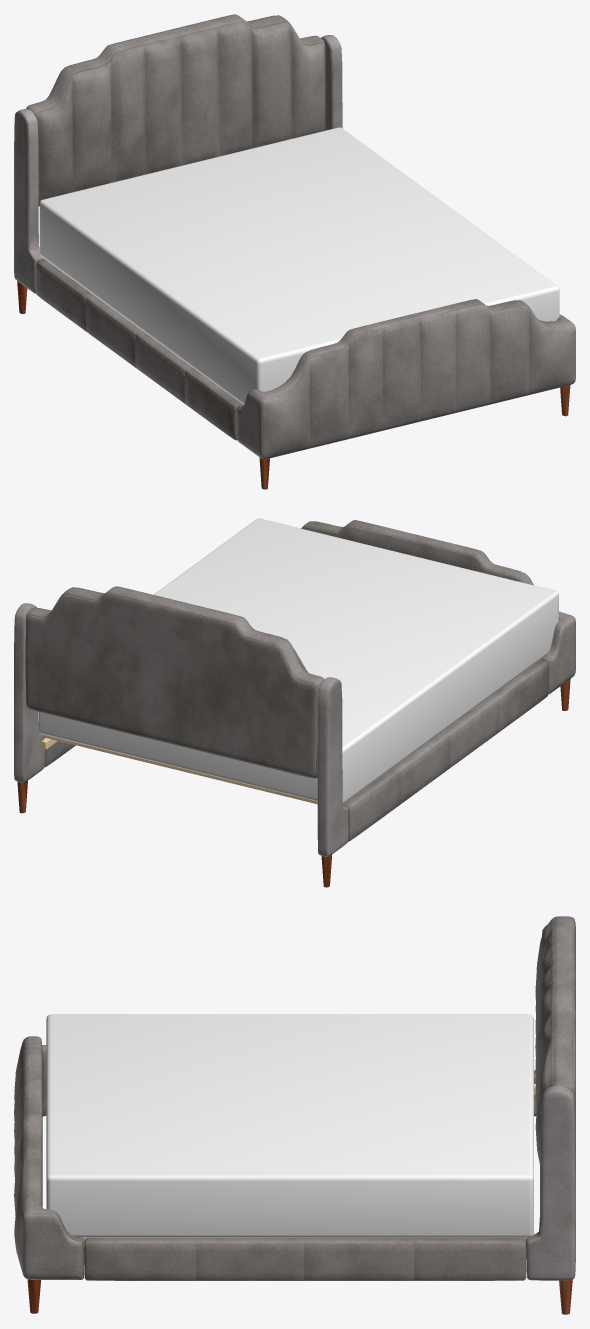
The model's file is gwyneth_velvet_queen_bed.glb.
The picture shows the model from 3 angles, top to bottom: view 1: azimuth 30°, elevation 25°; view 2: azimuth 150°, elevation 25°; view 3: azimuth 270°, elevation 25°; orthographic projection. The views are drawn at different scales.
Visible parts, largest first — view 1: B075QDGZX7; view 2: B075QDGZX7; view 3: B075QDGZX7.
Part boxes in pixels (x1,y1,x2,y2): B075QDGZX7: (14,14,575,489); B075QDGZX7: (14,518,575,887); B075QDGZX7: (14,916,575,1314).
Size of the model in its own units: 1.68 by 1.24 by 2.34.
Materials: 1 (1 with a texture image).
